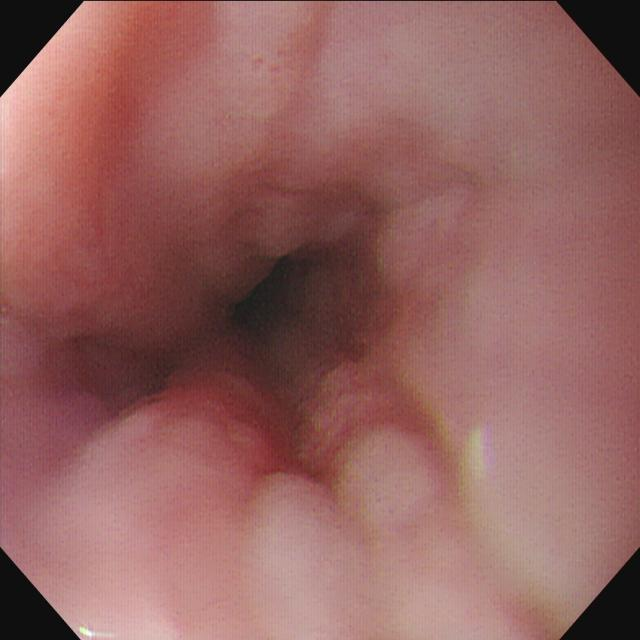E: (223, 242, 350, 358)
